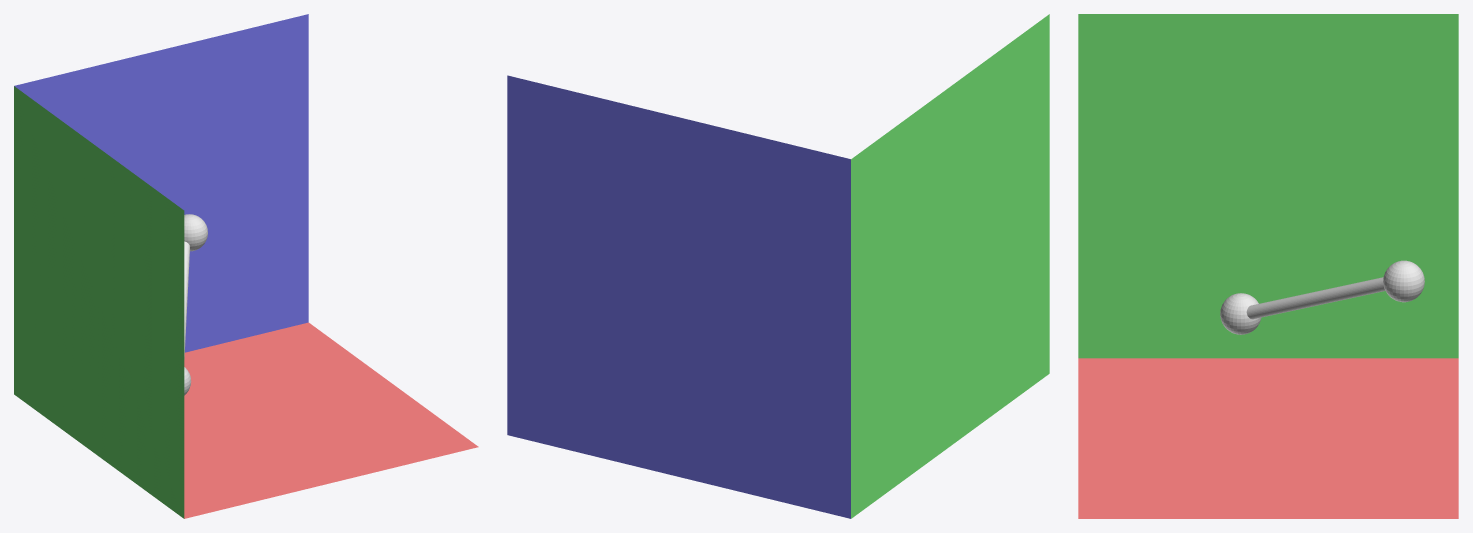
File: planes_visibility_animation.glb
3 renders of one model, left to right at view 1: azimuth 30°, elevation 25°; view 2: azimuth 150°, elevation 25°; view 3: azimuth 270°, elevation 25°, orthographic. The views are drawn at different scales.
Visible parts, largest first — view 1: Plane.001, Plane.002, Plane, Sphere.001; view 2: Plane.002, Plane.001; view 3: Plane.001, Plane, Cylinder, Sphere.001, Sphere.
Part boxes in pixels (x1,y1,x2,y2): Plane.001: [14, 86, 184, 518]; Plane.002: [14, 14, 308, 352]; Plane: [184, 322, 478, 518]; Sphere.001: [184, 214, 207, 251]; Plane.002: [507, 75, 850, 518]; Plane.001: [851, 14, 1049, 518]; Plane.001: [1078, 14, 1458, 358]; Plane: [1078, 358, 1458, 518]; Cylinder: [1246, 277, 1385, 319]; Sphere.001: [1383, 260, 1424, 302]; Sphere: [1220, 293, 1261, 334].
Size of the model in its own units: 2 by 2 by 2.
